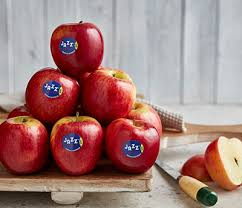apple: (104, 121, 162, 172), (51, 24, 106, 73), (52, 120, 103, 172), (25, 70, 82, 114), (1, 120, 49, 171), (88, 74, 138, 115)
damaged_apple: (204, 132, 242, 190)
